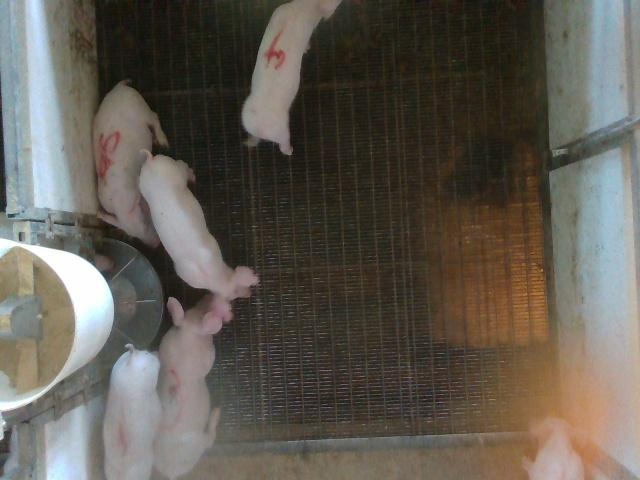pig-1: (102, 345, 161, 479)
pig-3: (154, 294, 220, 478)
pig-4: (242, 0, 341, 154)
pig-5: (92, 80, 169, 246)
